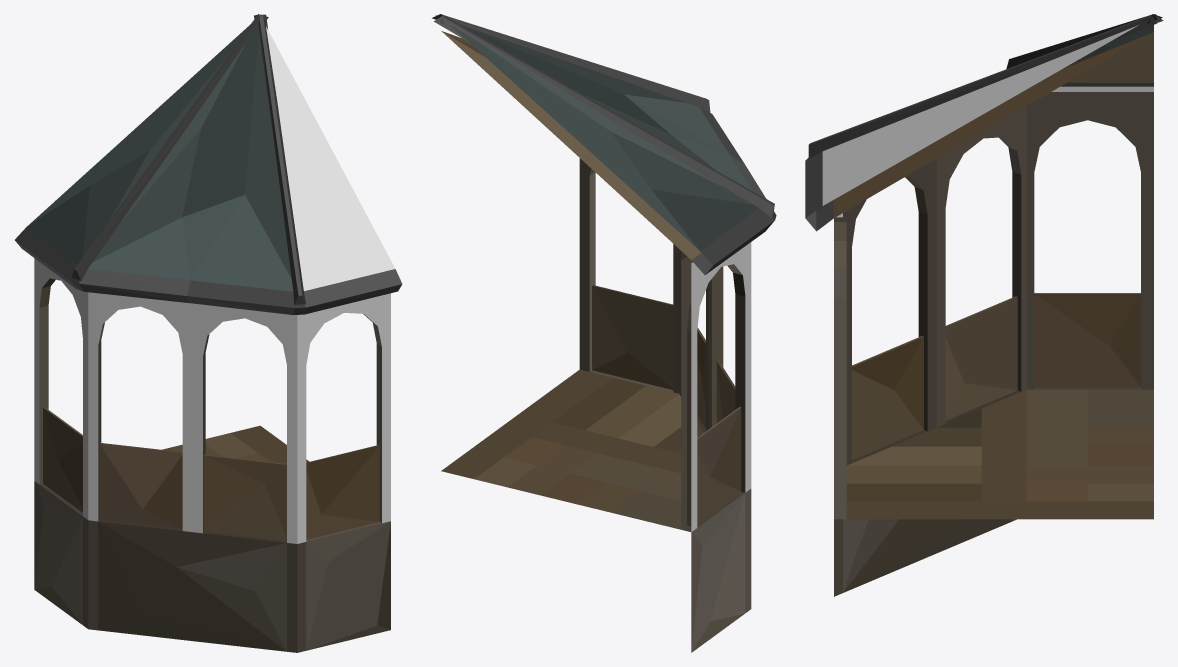
File: CentrePieceDivided.fbx
3 renders of one model, left to right at view 1: azimuth 30°, elevation 25°; view 2: azimuth 150°, elevation 25°; view 3: azimuth 270°, elevation 25°, orthographic. The views are drawn at different scales.
Visible parts, largest first — view 1: Addition_A-Corner.006, Addition_A-Corner.001, Addition_A-Corner.005, Addition_A-Corner.008, Addition_A-Corner.002, Addition_A-Corner.003, Addition_A-Corner.009, Addition_A-Corner.004, Addition_A-Corner.013, Addition_A-Corner.007, Addition_A-Corner.014, Addition_A-Corner.010 (+5 smaller); view 2: Addition_A-Corner.010, Addition_A-Corner.003, Addition_A-Corner.011, Addition_A-Corner.001, Addition_A-Corner.006, Addition_A-Corner.012, Addition_A-Corner, Addition_A-Corner.013, Addition_A-Corner.005, Addition_A-Corner.008, Addition_A-Corner.018, Addition_A-Corner.004 (+5 smaller); view 3: Addition_A-Corner.010, Addition_A-Corner.011, Addition_A-Corner.012, Addition_A-Corner, Addition_A-Corner.002, Addition_A-Corner.006, Addition_A-Corner.013, Addition_A-Corner.015, Addition_A-Corner.017, Addition_A-Corner.016, Addition_A-Corner.004, Addition_A-Corner.020 (+2 smaller).
Part boxes in pixels (<box>): Addition_A-Corner.006: <box>34,481,390,651</box>; Addition_A-Corner.001: <box>88,25,293,291</box>; Addition_A-Corner.005: <box>43,408,379,540</box>; Addition_A-Corner.008: <box>34,258,390,543</box>; Addition_A-Corner.002: <box>266,26,395,290</box>; Addition_A-Corner.003: <box>26,24,250,264</box>; Addition_A-Corner.009: <box>36,259,388,365</box>; Addition_A-Corner.004: <box>15,227,402,307</box>; Addition_A-Corner.013: <box>74,14,305,304</box>; Addition_A-Corner.007: <box>83,517,306,652</box>; Addition_A-Corner.014: <box>15,240,401,315</box>; Addition_A-Corner.010: <box>162,425,309,463</box>; Addition_A-Corner.010: <box>441,369,703,529</box>; Addition_A-Corner.003: <box>450,25,758,250</box>; Addition_A-Corner.011: <box>592,286,735,427</box>; Addition_A-Corner.001: <box>462,25,751,190</box>; Addition_A-Corner.006: <box>691,493,745,652</box>; Addition_A-Corner.012: <box>579,158,711,529</box>; Addition_A-Corner: <box>434,14,776,298</box>; Addition_A-Corner.013: <box>432,14,774,217</box>; Addition_A-Corner.005: <box>697,408,741,523</box>; Addition_A-Corner.008: <box>691,242,751,531</box>; Addition_A-Corner.018: <box>687,264,745,526</box>; Addition_A-Corner.004: <box>699,107,775,265</box>; Addition_A-Corner.010: <box>846,389,1153,519</box>; Addition_A-Corner.011: <box>852,294,1140,460</box>; Addition_A-Corner.012: <box>846,92,1153,465</box>; Addition_A-Corner: <box>807,14,1163,373</box>; Addition_A-Corner.002: <box>822,25,1138,205</box>; Addition_A-Corner.006: <box>843,519,1012,592</box>; Addition_A-Corner.013: <box>808,14,1156,158</box>; Addition_A-Corner.015: <box>834,217,846,513</box>; Addition_A-Corner.017: <box>999,137,1021,391</box>; Addition_A-Corner.016: <box>905,177,927,431</box>; Addition_A-Corner.004: <box>805,151,822,217</box>; Addition_A-Corner.020: <box>834,387,1140,519</box>.
Size of the model in its own units: 348 by 683 by 348.
